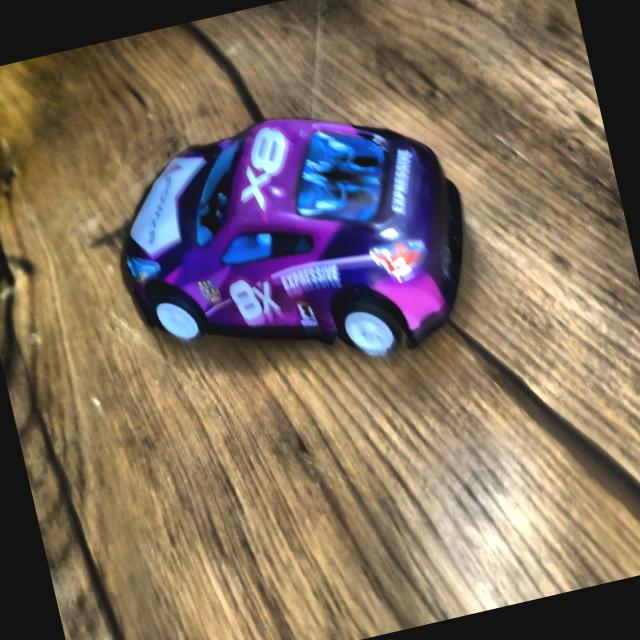Car: (103, 82, 489, 406)
